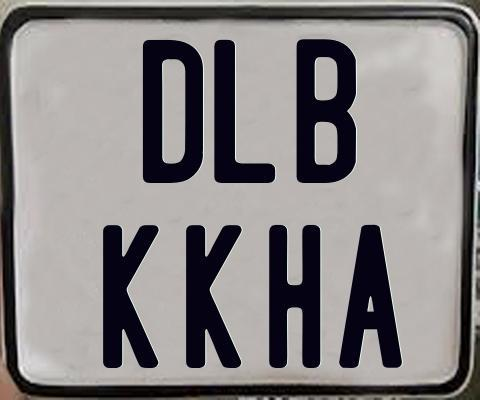A: (339, 224, 404, 373)
B: (294, 36, 358, 184)
D: (140, 39, 204, 186)
H: (266, 223, 320, 368)
K: (101, 222, 162, 371), (184, 225, 243, 370)
L: (213, 37, 280, 183)
